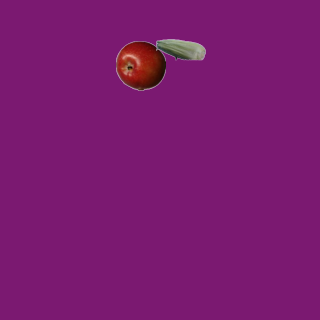Apple Braeburn: (115, 40, 165, 90)
Corn Husk: (155, 24, 205, 74)
